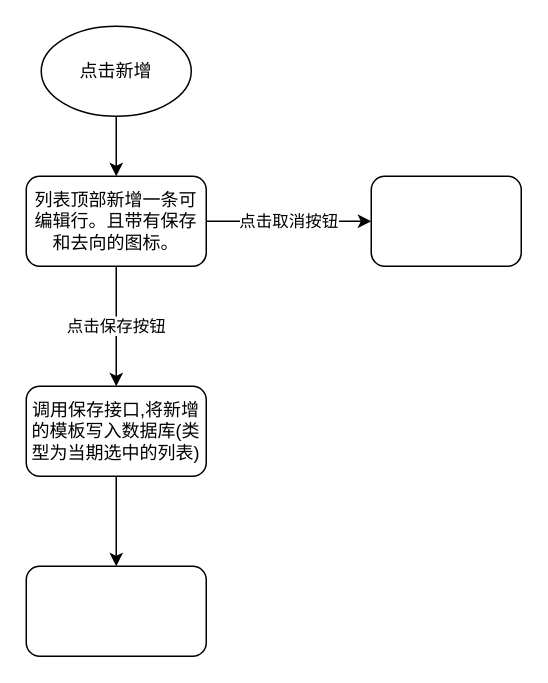
The diagram is 548 pixels wide and 683 high, and some of its shapes have lost their labels. Here are the shapes that lost their labels. From the top down, the box of each, then its label:
(370, 175, 521, 266): 新增的行回退
(25, 565, 206, 656): 结束
